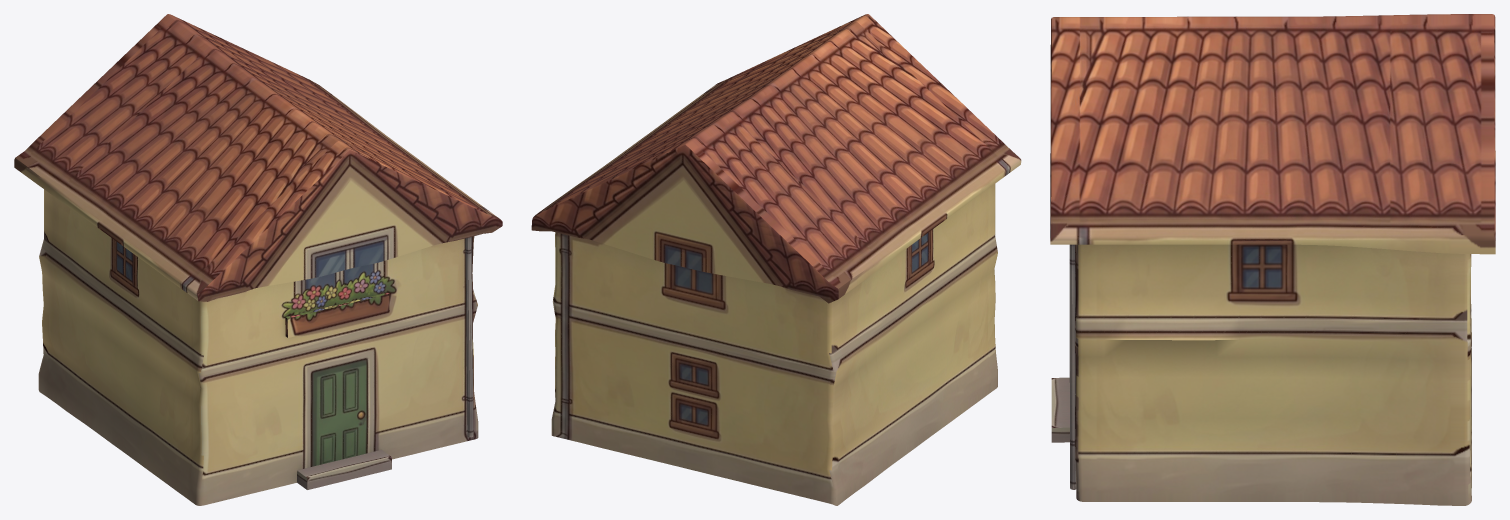
Rendered from maison_jaune.glb.
The picture shows the model from 3 angles, left to right: view 1: azimuth 30°, elevation 25°; view 2: azimuth 150°, elevation 25°; view 3: azimuth 270°, elevation 25°; orthographic projection. The views are drawn at different scales.
Parts seen in each view (by area): view 1: maison; view 2: maison; view 3: maison.
Boxes of the visible parts, x1,y1,x2,y2 form: maison: (14, 14, 502, 505); maison: (531, 14, 1021, 505); maison: (1050, 14, 1495, 505).
Size of the model in its own units: 5.26 by 5.5 by 5.45.
1 material, 1 textured.
